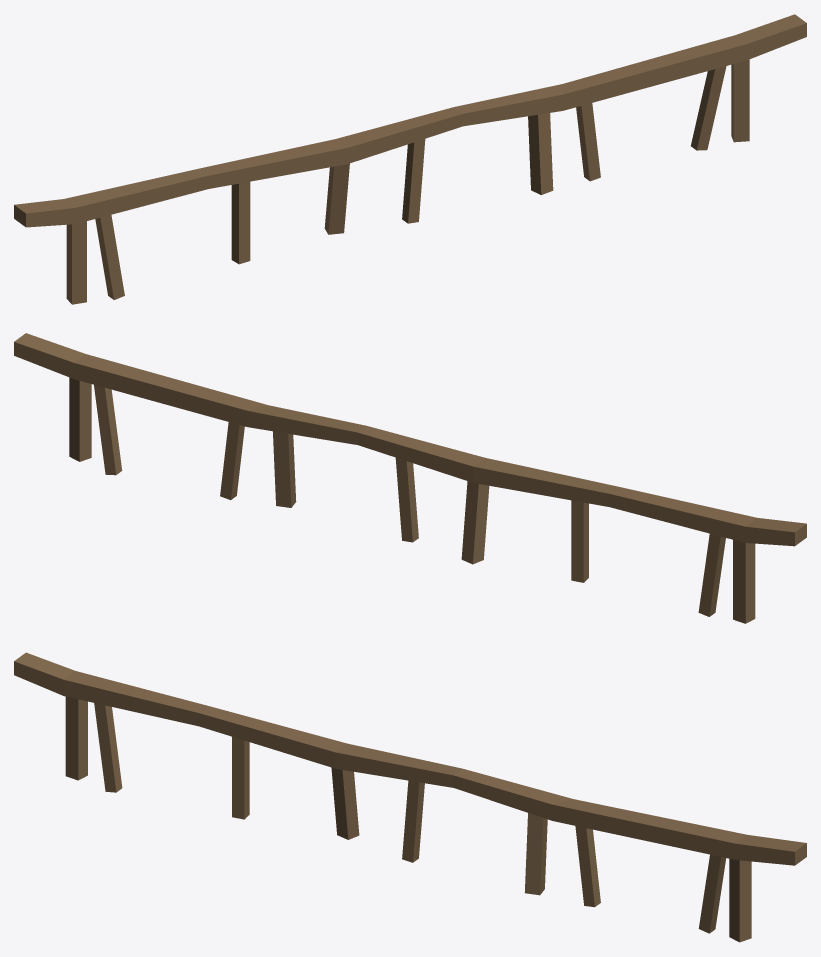
File: SM_Prop_Fence_01.fbx
3 views of the same model, one above another, from view 1: azimuth 30°, elevation 25°; view 2: azimuth 150°, elevation 25°; view 3: azimuth 330°, elevation 25° (orthographic).
Parts seen in each view (by area): view 1: SM_Prop_Fence_01; view 2: SM_Prop_Fence_01; view 3: SM_Prop_Fence_01.
Boxes of the visible parts, x1,y1,x2,y2 form: SM_Prop_Fence_01: (14, 14, 806, 304); SM_Prop_Fence_01: (14, 333, 806, 623); SM_Prop_Fence_01: (14, 652, 806, 942).
Size of the model in its own units: 5.7 by 0.7666 by 0.2528.
